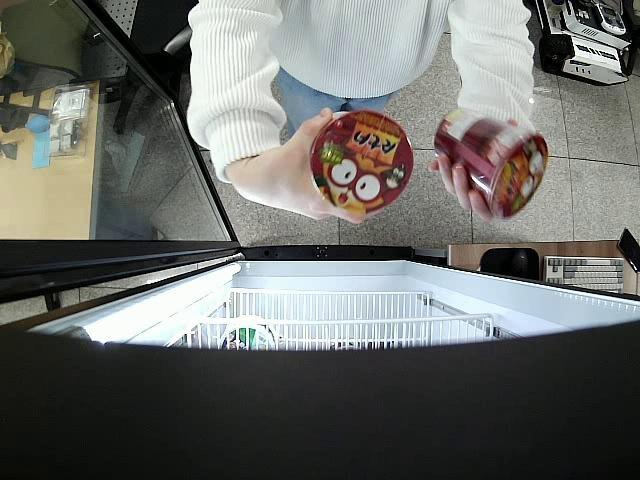06_nuguri_S: (432, 110, 548, 222), (309, 112, 412, 213)
